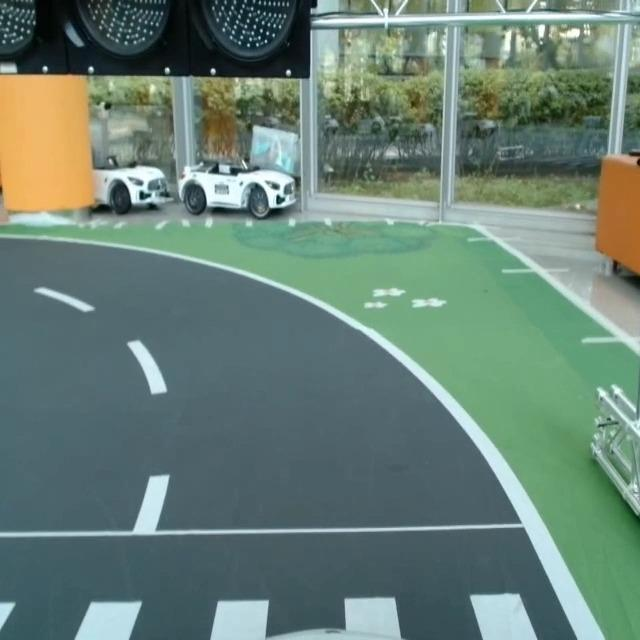traffic-light: (0, 0, 316, 84)
